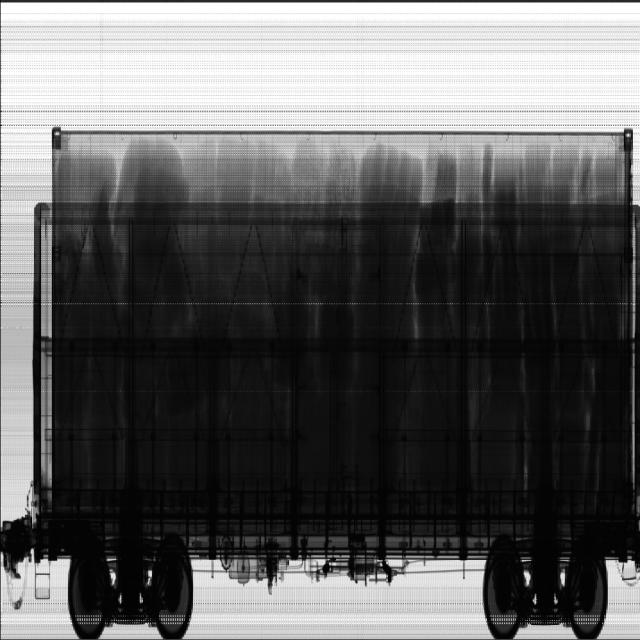clothes: (53, 140, 629, 517)
